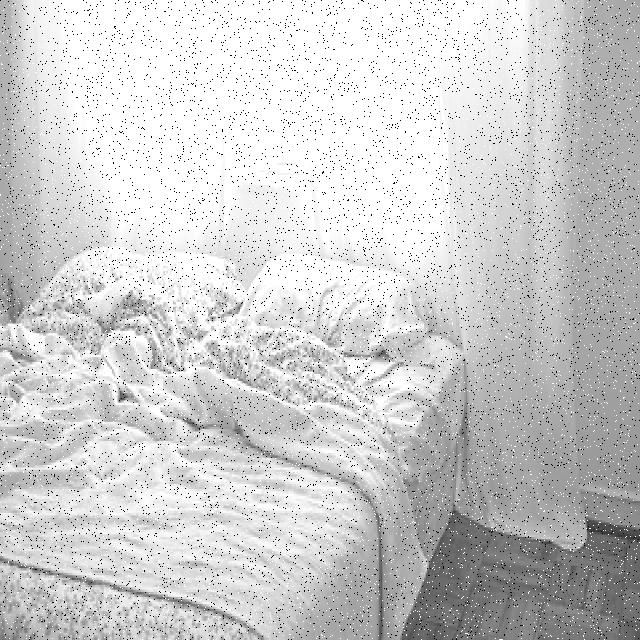bed: (0, 249, 464, 640)
